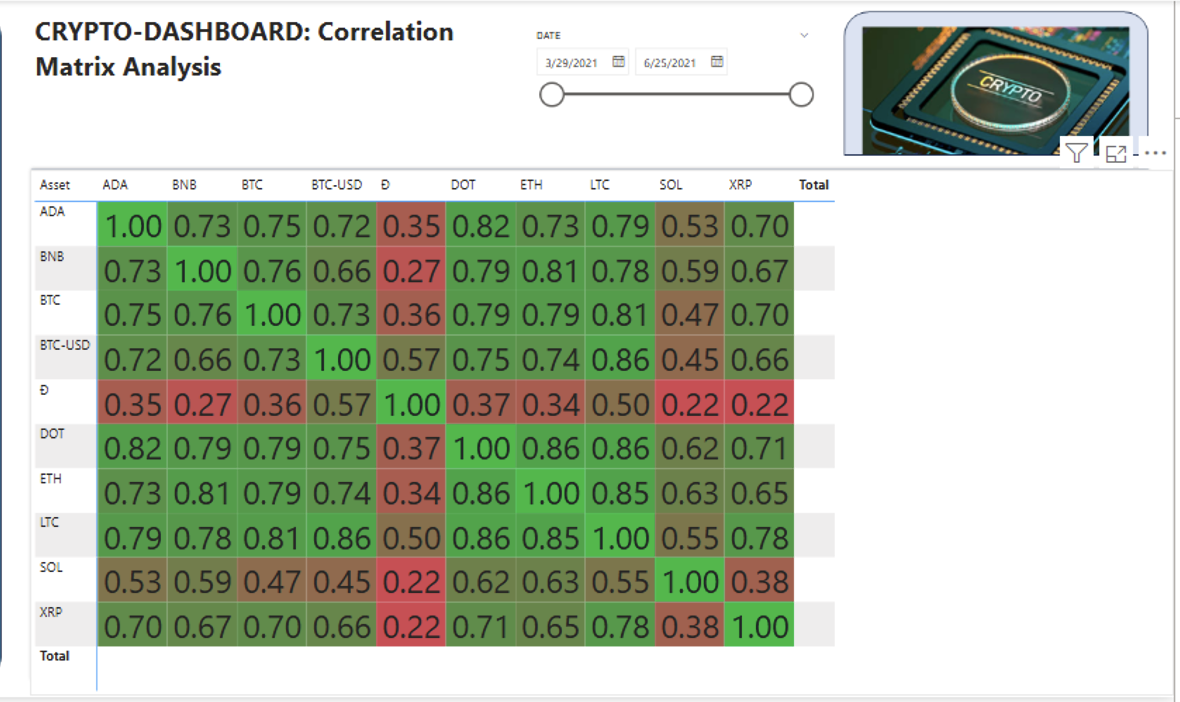

What the dashboard file says about the page in this screenshot:
{"tool":"powerbi","page":{"name":"Page 5","canvas":[1280,720],"ordinal":4},"visuals":[{"type":"pivotTable","fields":{"Values":["Symbolist.Correlation Coeff"],"Rows":["Symbolist.Asset"],"Columns":["Symbolist 2.Asset"]},"box":[98.2,174.3,1181.8,544.9],"z":0},{"type":"slicer","fields":{"Values":["DateTable.DATE"]},"box":[607.5,25.1,307.4,131.5],"z":1},{"type":"textbox","box":[98,7,509,150],"z":2}]}

Visuals, with their boxes on the page's 1280x720 design canvas (x1, y1, x2, y2). These are canvas units, not pixel positions in the 1180x702 screenshot, which may show the page scaled, cropped or inside an application window:
pivotTable - Symbolist.Correlation Coeff x Symbolist.Asset: (98,174,1280,719)
slicer - DateTable.DATE: (608,25,915,157)
textbox: (98,7,607,157)
